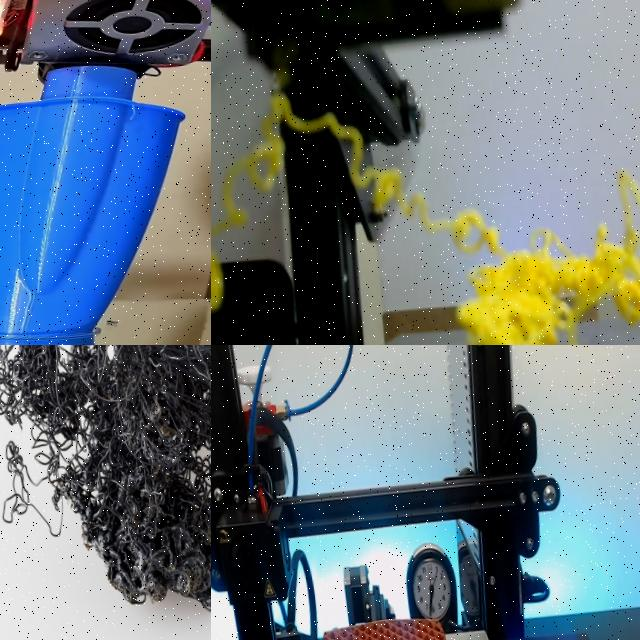spaghetti: (211, 69, 640, 345), (0, 441, 66, 543)
